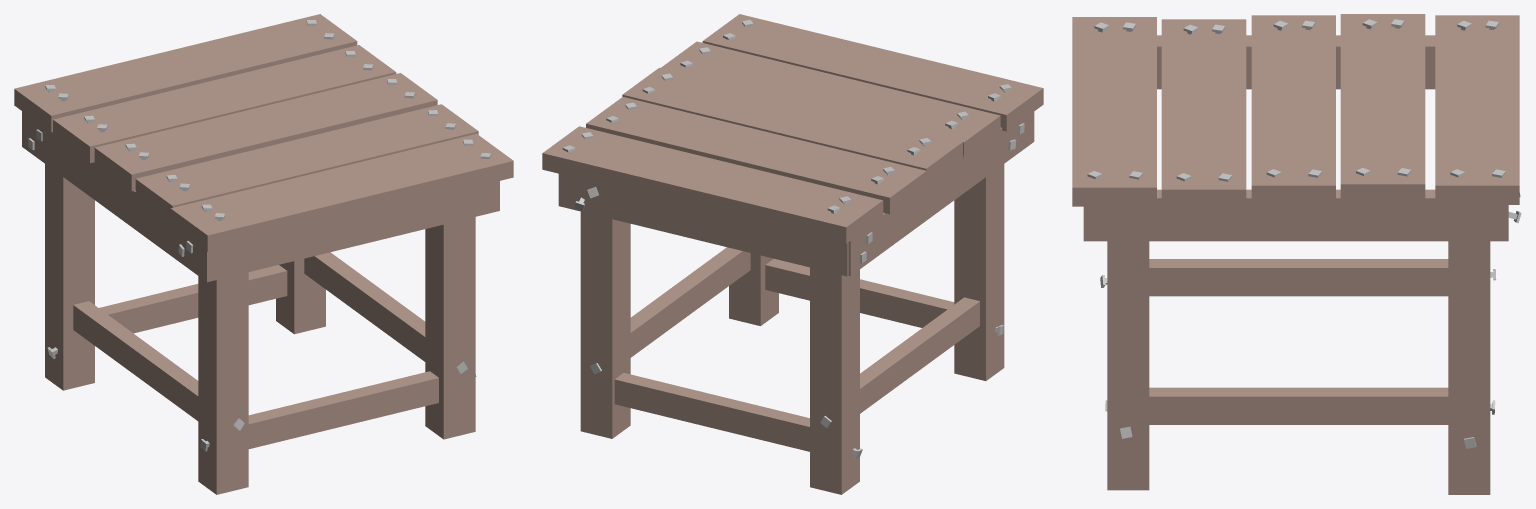
File: kresls.gltf
3 renders of one model, left to right at view 1: azimuth 30°, elevation 25°; view 2: azimuth 150°, elevation 25°; view 3: azimuth 270°, elevation 25°, orthographic. The views are drawn at different scales.
Visible parts, largest first — view 1: Node; view 2: Node; view 3: Node.
Part boxes in pixels (<box>): Node: <box>14,14,513,494</box>; Node: <box>542,14,1043,494</box>; Node: <box>1072,14,1521,494</box>.
Size of the model in its own units: 0.7786 by 0.692 by 0.8559.
